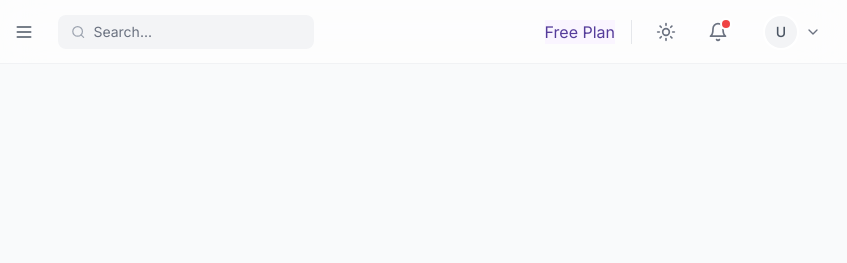
Test: Header › toggles user dropdown menu when clicked
Expected: the text "Profile Settings" is not shown
Click to open dropdown
Click the button named "User account menu" at (795, 32), box [760,10,830,52]
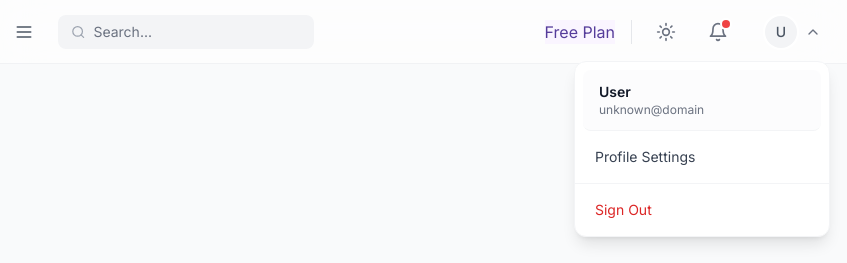
Expected: the menu item "Profile Settings" is shown, [595,148,695,164]
Expected: the text "User" is shown, [599,82,631,100]
Expected: the text "unknown@domain" is shown, [599,102,704,116]
Click again to close dropdown
Click the button named "User account menu" at (795, 32), box [760,10,830,52]
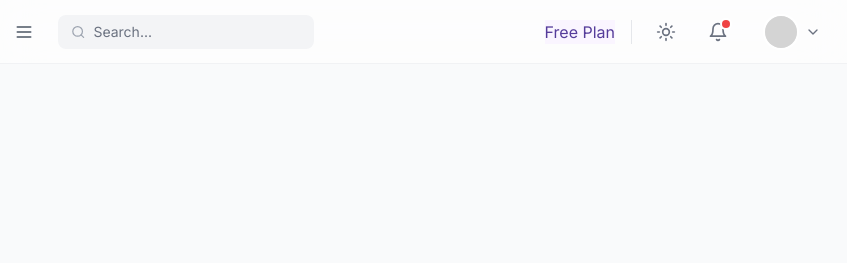
Expected: the menu item "Profile Settings" is gone
